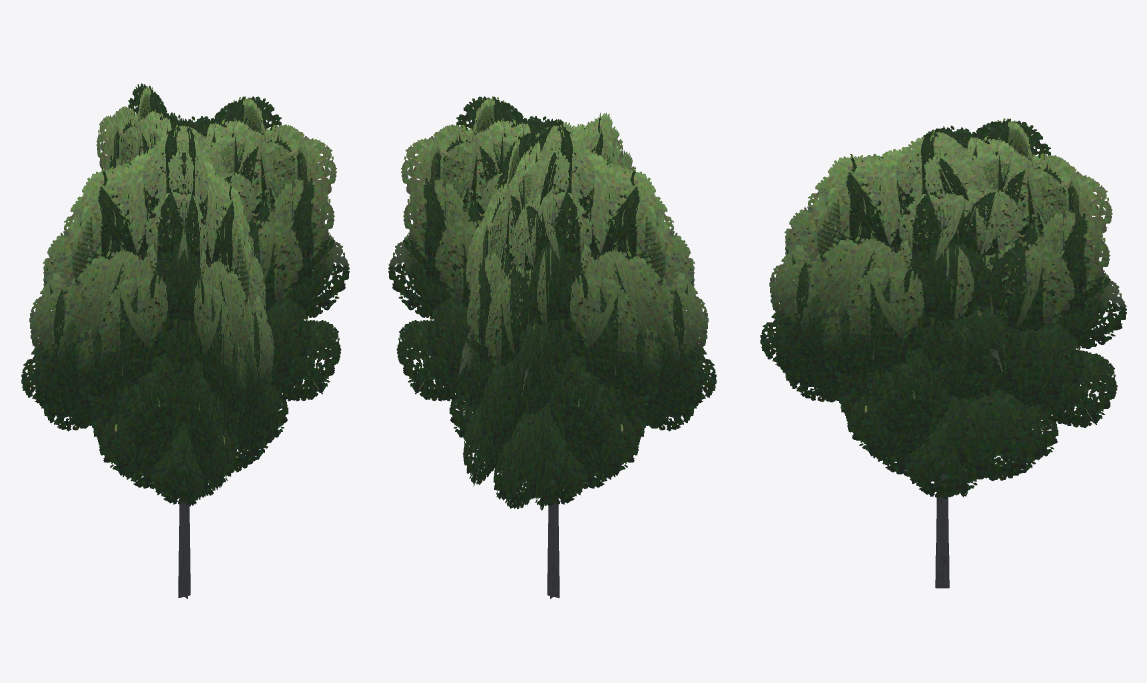
Rendered from tree_linden_impostor.glb.
The picture shows the model from 3 angles, left to right: view 1: azimuth 30°, elevation 25°; view 2: azimuth 150°, elevation 25°; view 3: azimuth 270°, elevation 25°; orthographic projection. The views are drawn at different scales.
Visible parts, largest first — view 1: tree_linden_impostor; view 2: tree_linden_impostor; view 3: tree_linden_impostor.
Boxes of the visible parts, x1=… form: tree_linden_impostor: x1=21, y1=83, x2=349, y2=598; tree_linden_impostor: x1=388, y1=96, x2=716, y2=598; tree_linden_impostor: x1=760, y1=118, x2=1126, y2=588.
Size of the model in its own units: 8.84 by 12.66 by 8.84.
Materials: 1 (1 with a texture image).
